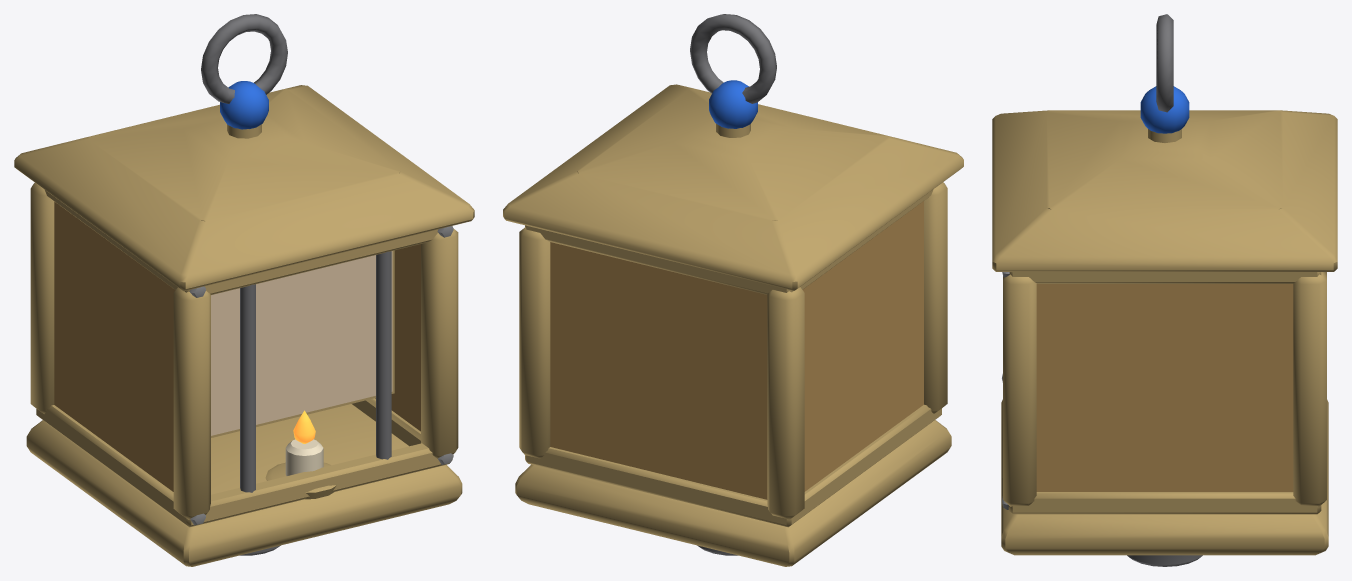
Rendered from Kit_Head_Lantern.glb.
3 renders of one model, left to right at view 1: azimuth 30°, elevation 25°; view 2: azimuth 150°, elevation 25°; view 3: azimuth 270°, elevation 25°, orthographic.
Visible parts, largest first — view 1: Kit_Head_Lantern, FacePlate; view 2: Kit_Head_Lantern; view 3: Kit_Head_Lantern.
Boxes of the visible parts, bbox=[...] form: Kit_Head_Lantern: bbox=[14, 14, 474, 566]; FacePlate: bbox=[211, 251, 392, 435]; Kit_Head_Lantern: bbox=[503, 14, 963, 566]; Kit_Head_Lantern: bbox=[992, 14, 1337, 566].
Size of the model in its own units: 0.2687 by 0.4568 by 0.2687.
